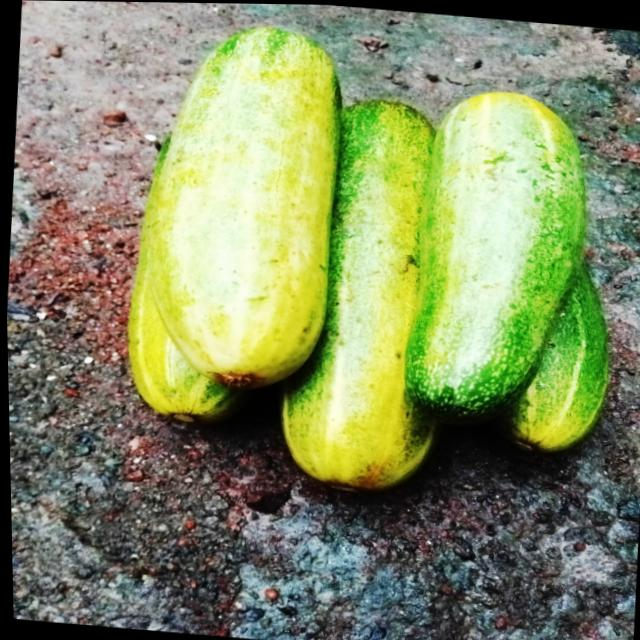Fresh-Cucumber: (130, 16, 348, 389), (270, 90, 457, 488), (378, 81, 594, 423), (115, 193, 247, 429), (506, 250, 613, 450)
